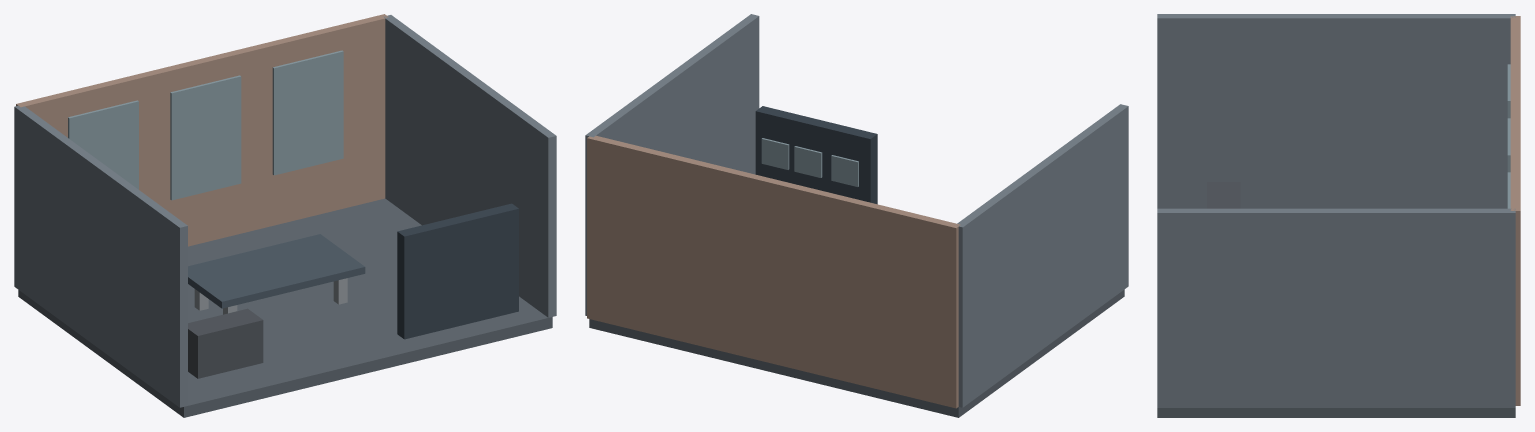
Rendered from escenario_safehouse.glb.
3 views of the same model, side by side, from view 1: azimuth 30°, elevation 25°; view 2: azimuth 150°, elevation 25°; view 3: azimuth 270°, elevation 25° (orthographic). The views are drawn at different scales.
Bounding box in the file's own units: 9.2 × 4.46 × 7.1.
